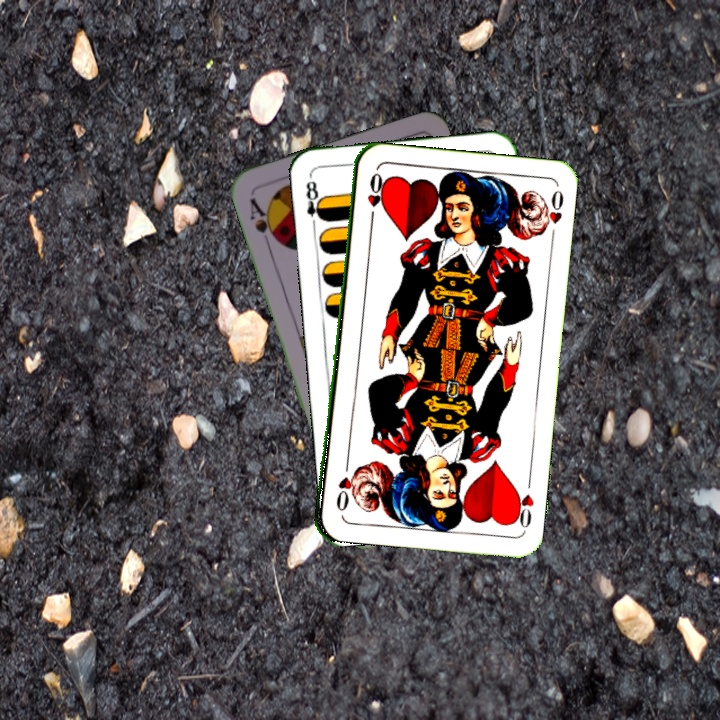E8: (301, 177, 328, 231)
HO: (508, 485, 537, 533), (363, 168, 383, 226)
SA: (245, 193, 281, 249)
